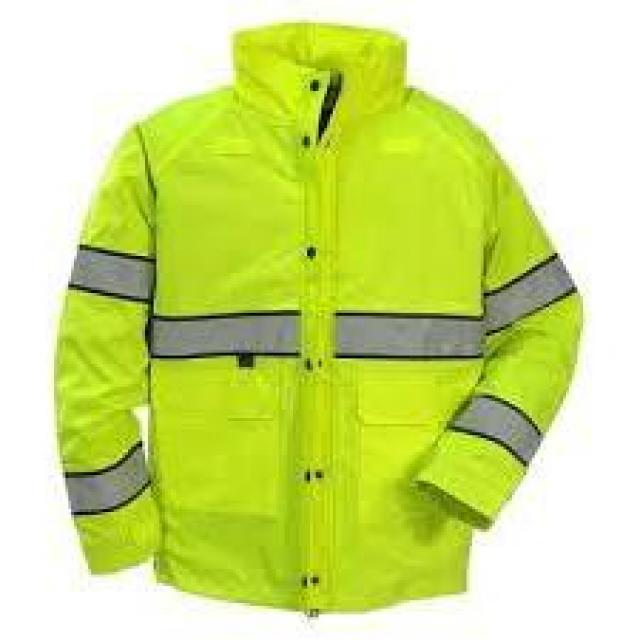Reflective-Jacket: (0, 17, 614, 637)
